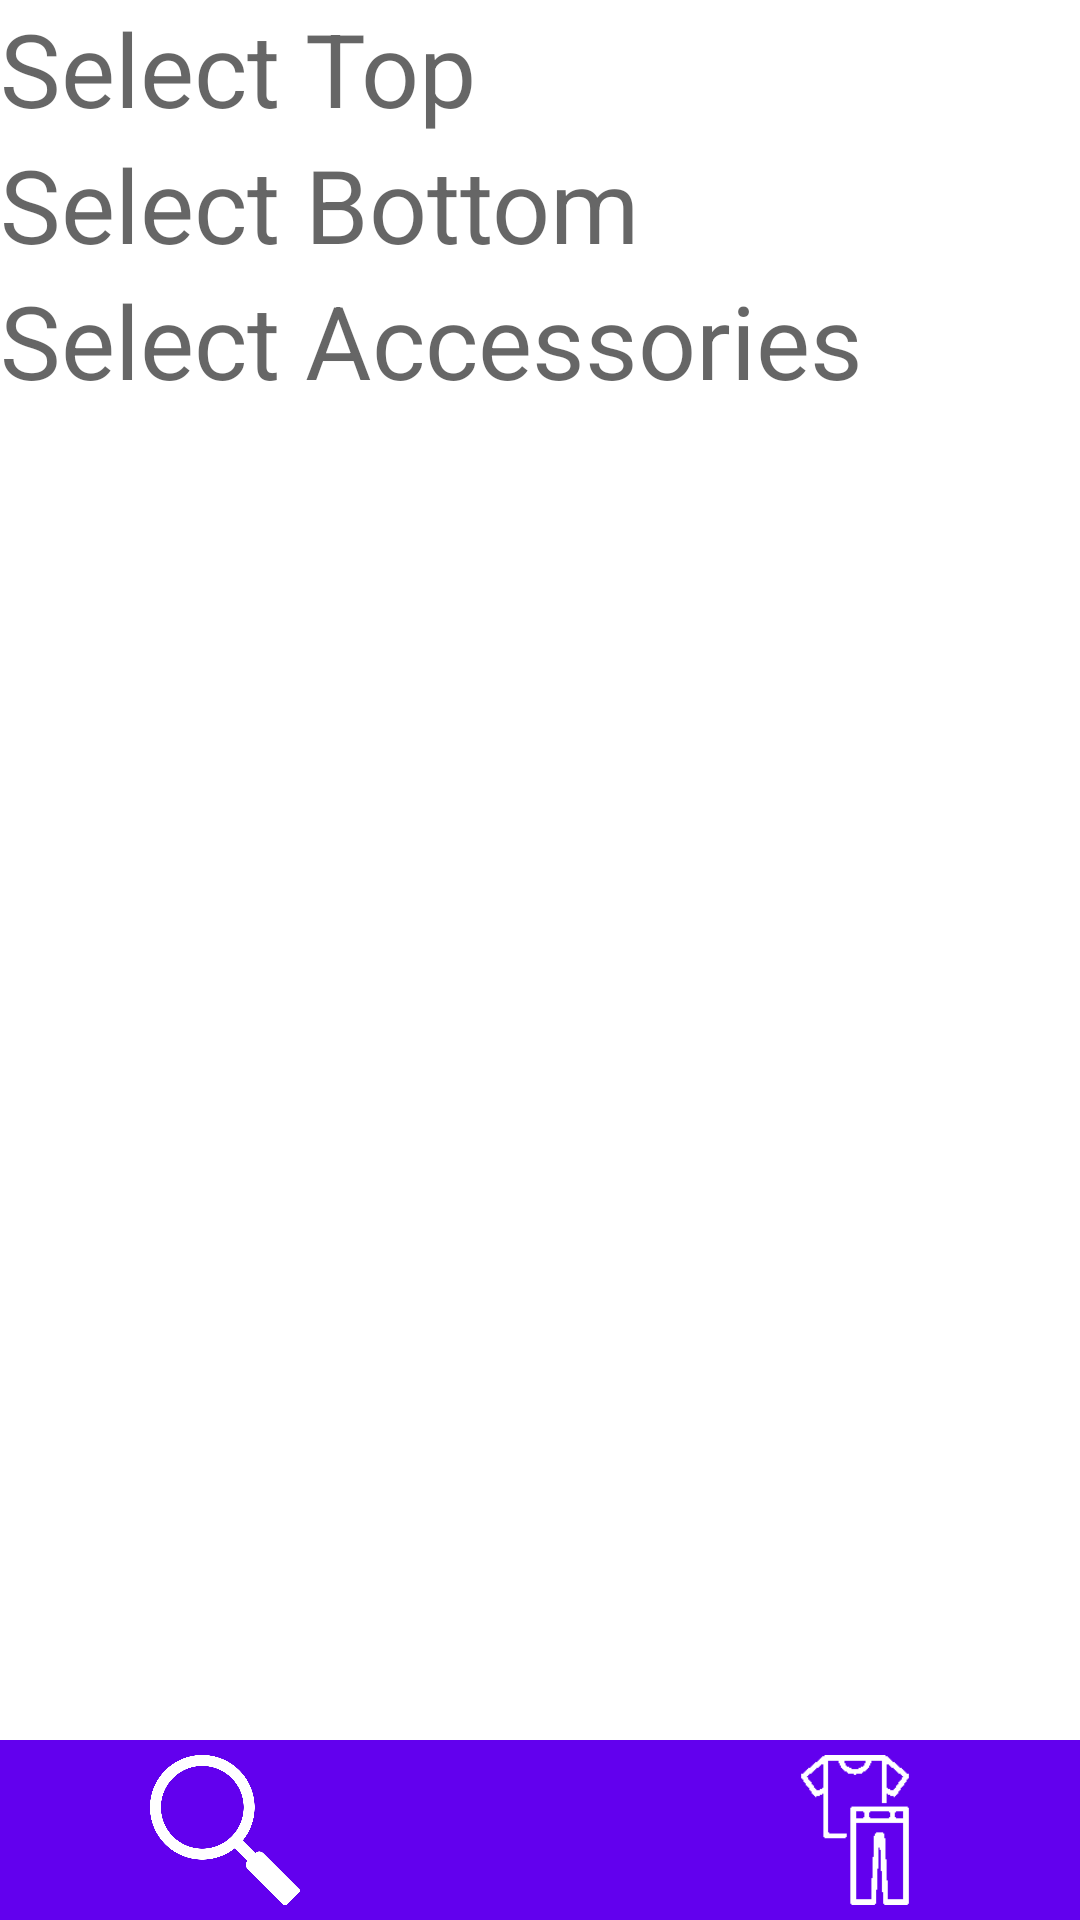

Icon bounding boxes for this 1080px x 1920px phone screenshot, format [x1, y1, x2, y2]:
magnifyingglass: [150, 1755, 300, 1905]
outfiticon: [801, 1755, 909, 1905]
